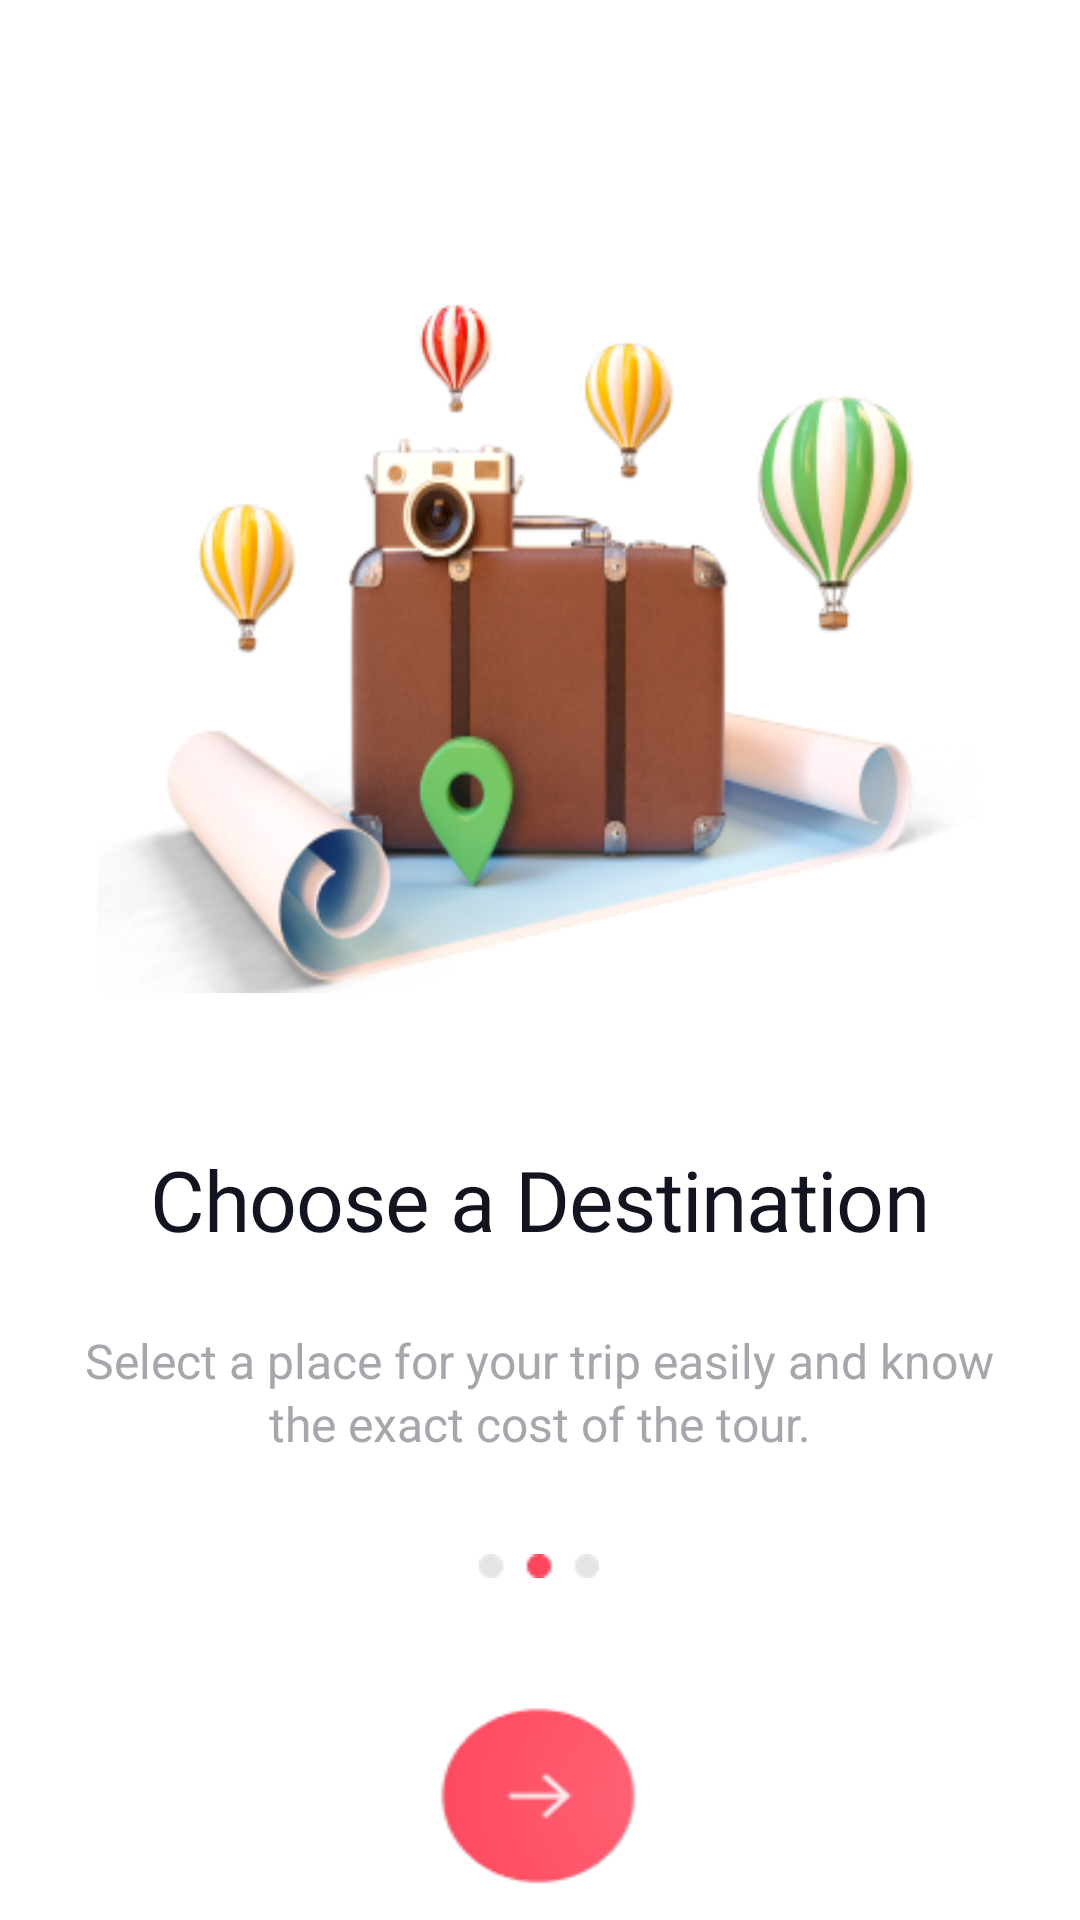

Icon bounding boxes for this 1080w x 1920h phone screenshot, format (x1, y1, x2, y2):
group middle: (479, 1554, 599, 1578)
